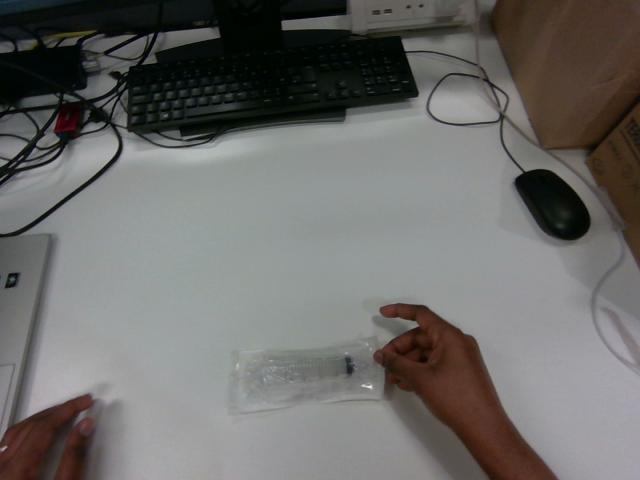syringe: (229, 337, 383, 413)
